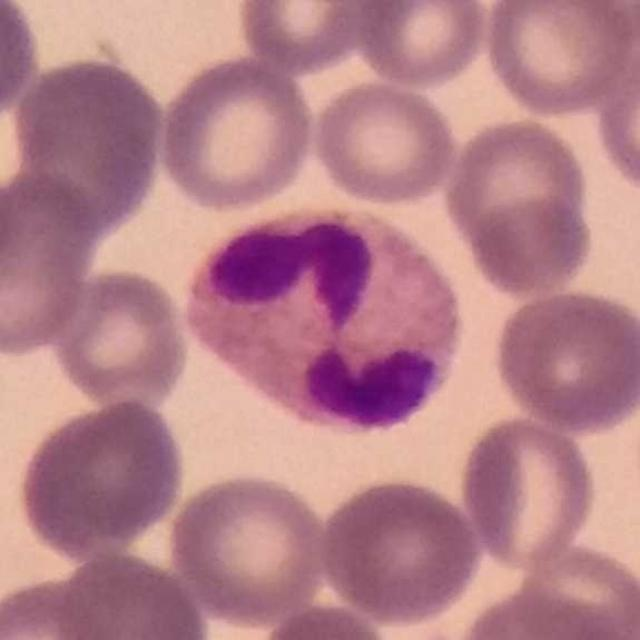Neutrophil: (173, 199, 474, 440)
RBC: (6, 51, 170, 237), (438, 112, 598, 300), (12, 394, 190, 561), (165, 467, 333, 628), (155, 52, 317, 215), (316, 474, 485, 627), (456, 410, 601, 576), (489, 283, 640, 435), (47, 264, 195, 411), (308, 76, 461, 209), (0, 167, 102, 360), (478, 0, 638, 119), (48, 547, 214, 640), (350, 0, 492, 91), (513, 540, 640, 640), (232, 0, 378, 76), (451, 583, 633, 640), (0, 570, 125, 640), (591, 29, 640, 200), (0, 0, 45, 130), (251, 602, 398, 640), (563, 0, 640, 50)
